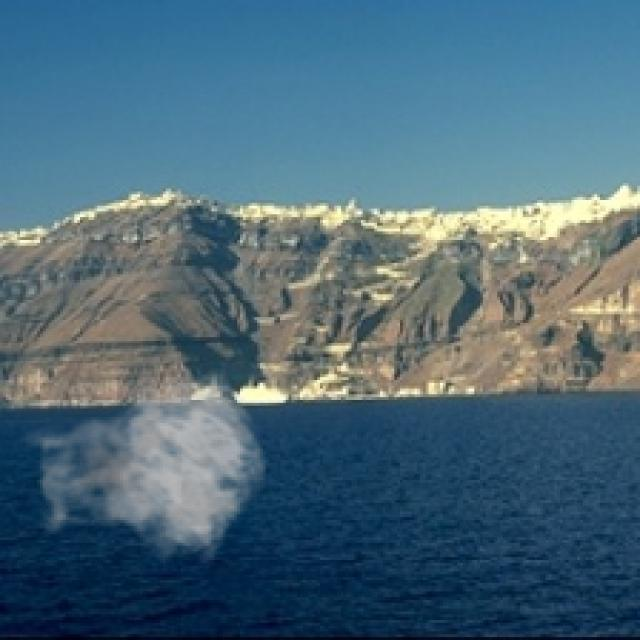smoke: (20, 368, 269, 568)
